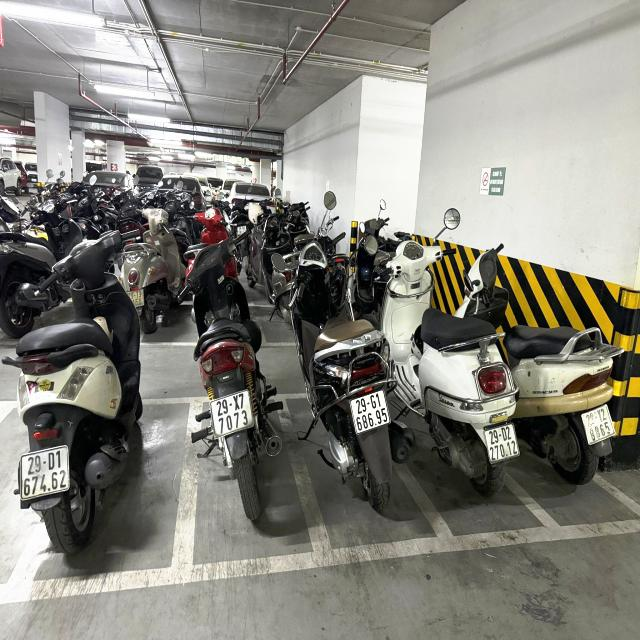license_plate: (20, 444, 72, 503), (209, 388, 256, 442), (349, 388, 394, 437), (484, 423, 522, 466), (580, 404, 617, 446)
